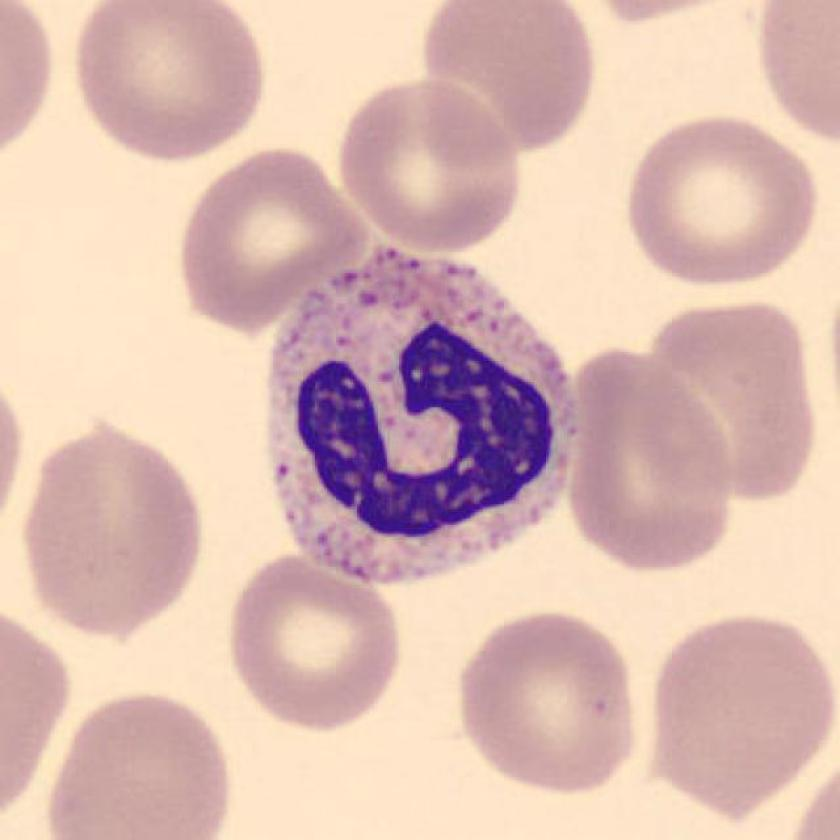neutrophil: (270, 251, 576, 583)
